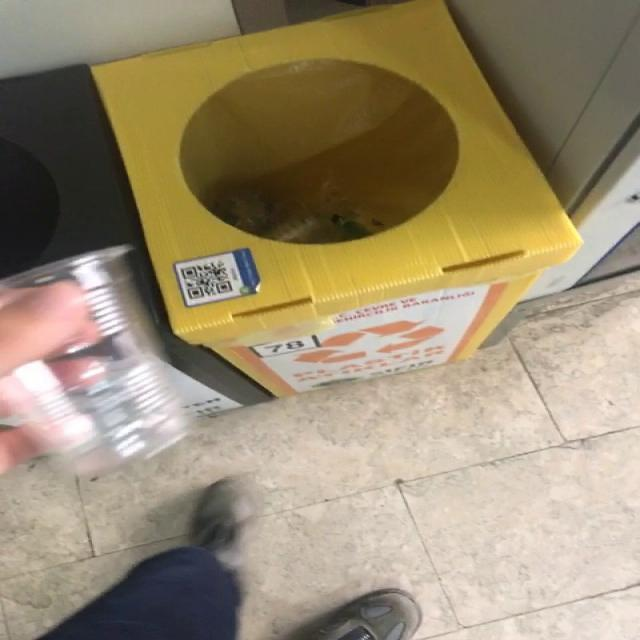plastic: (1, 246, 188, 472)
